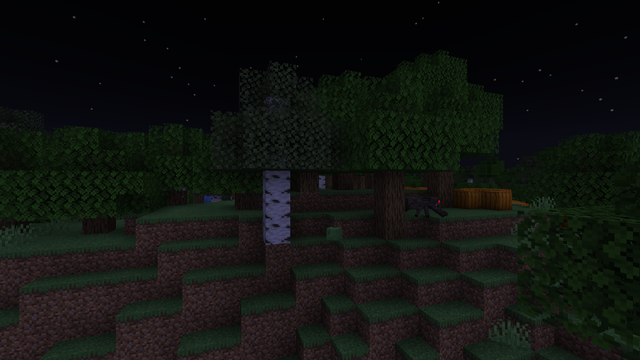araignees: (405, 194, 446, 217)
slimes: (326, 226, 341, 240)
